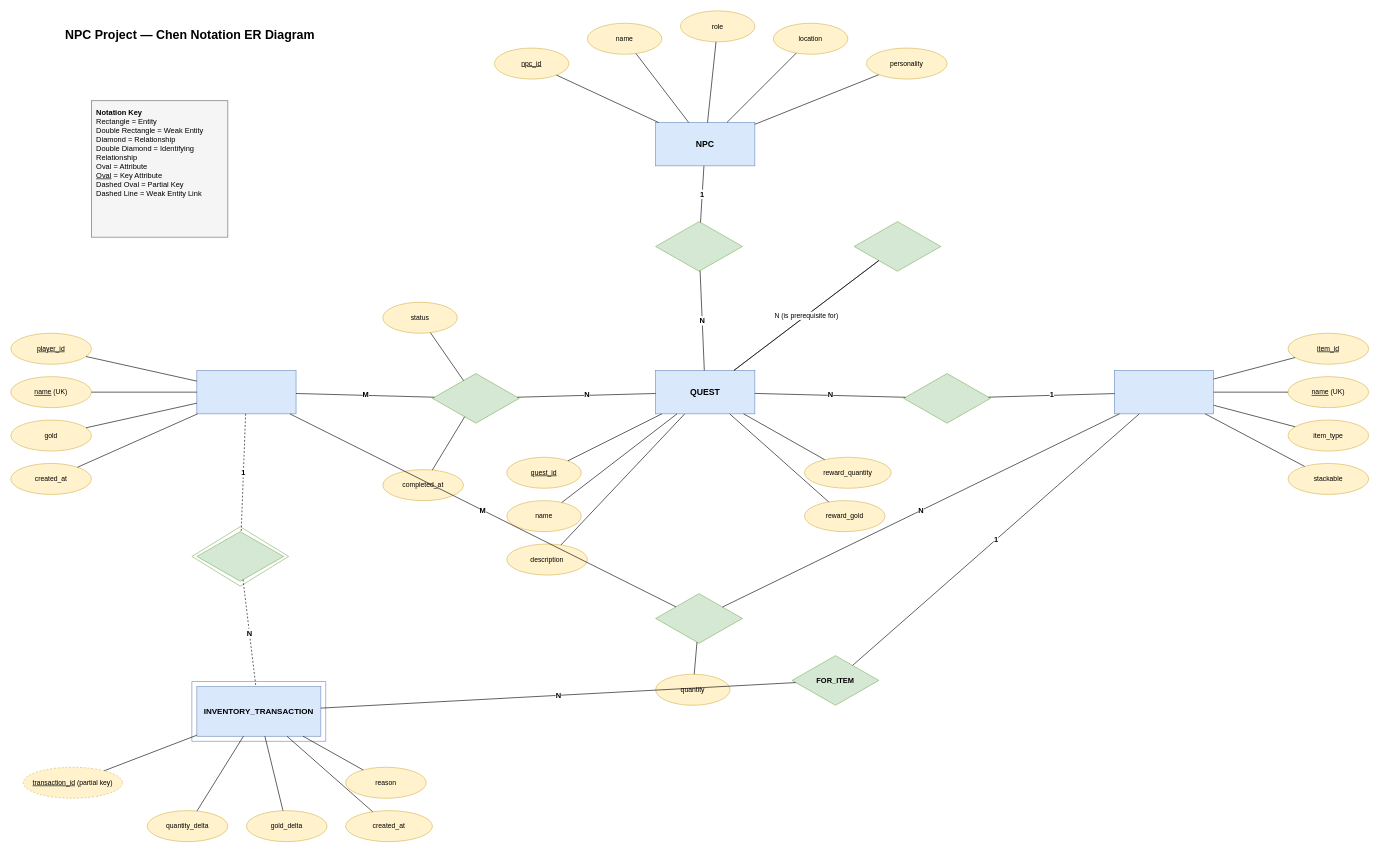
The diagram is 1380 pixels wide and 853 high, and some of its shapes have lost their labels. The centre of each missing label's shape, as x and y in pixels:
"GIVES" belongs at (698,246).
"ITEM" belongs at (1164,392).
"LOGS" belongs at (240,556).
"OWNS" belongs at (698,618).
"PLAYER" belongs at (246,392).
"REQUIRES" belongs at (897,246).
"REWARDS" belongs at (946,398).
"UNDERTAKES" belongs at (475,398).
